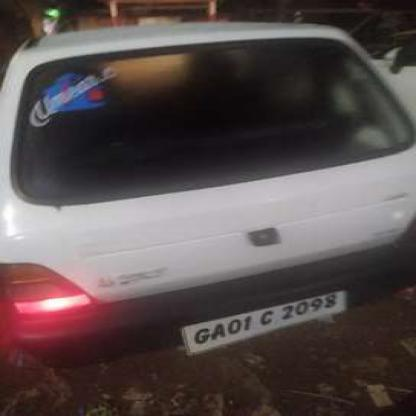license_plate: (180, 288, 346, 350)
